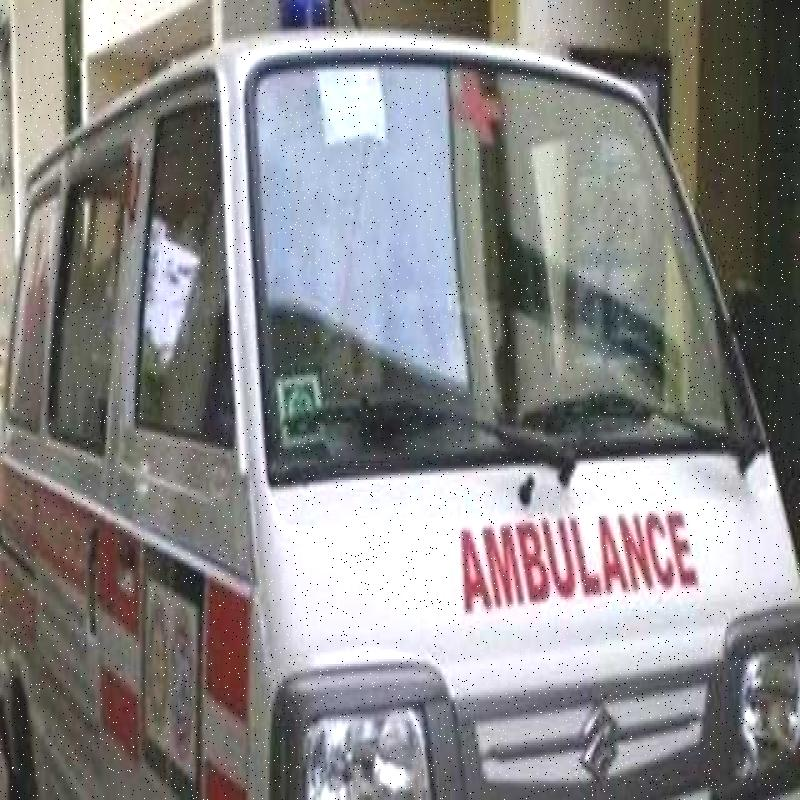AmbulanceSiren: (272, 0, 347, 43)
